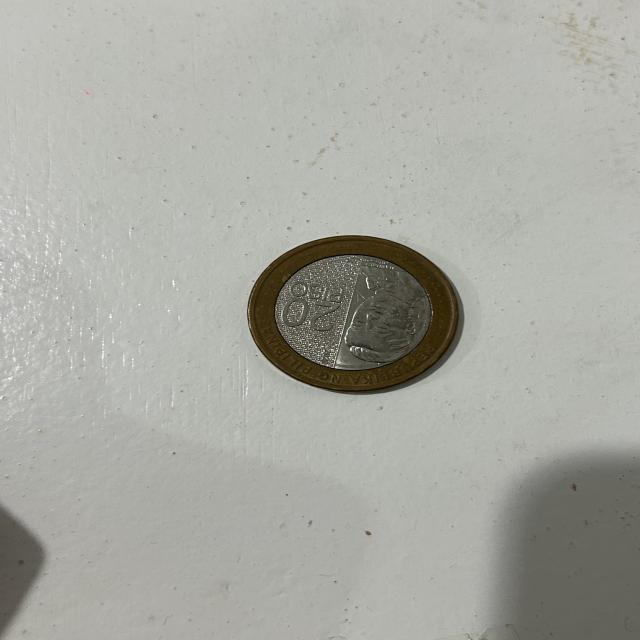20_New_Front: (276, 278, 347, 339)
